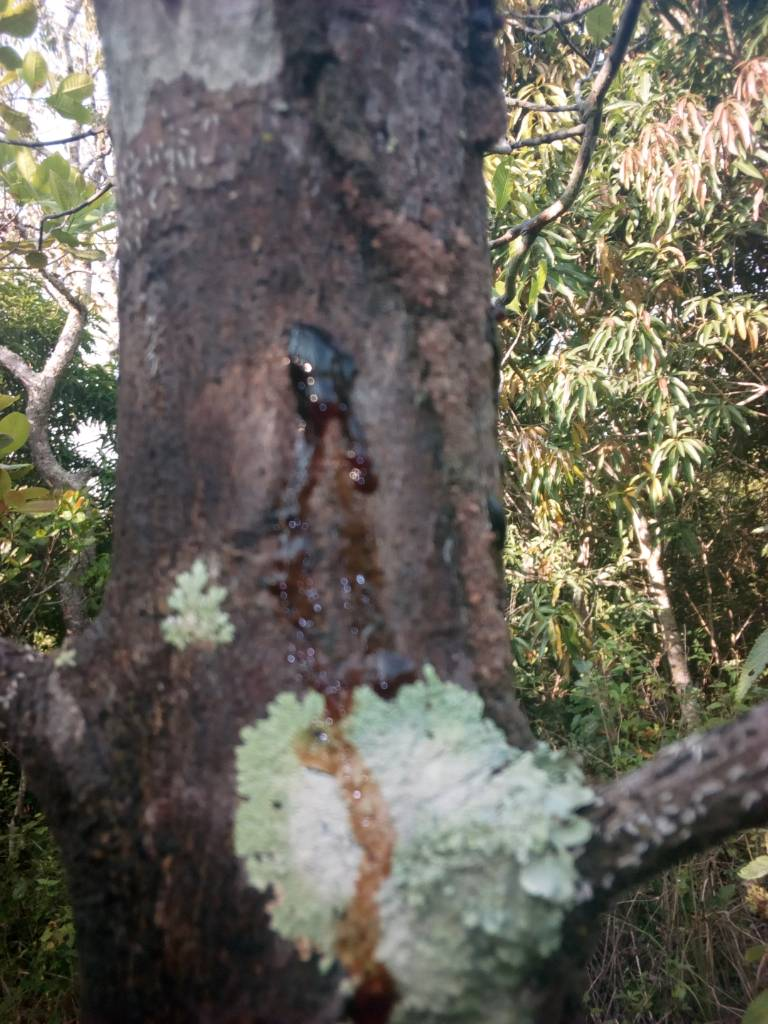Mecocorynus longiceps: (241, 269, 422, 514)
